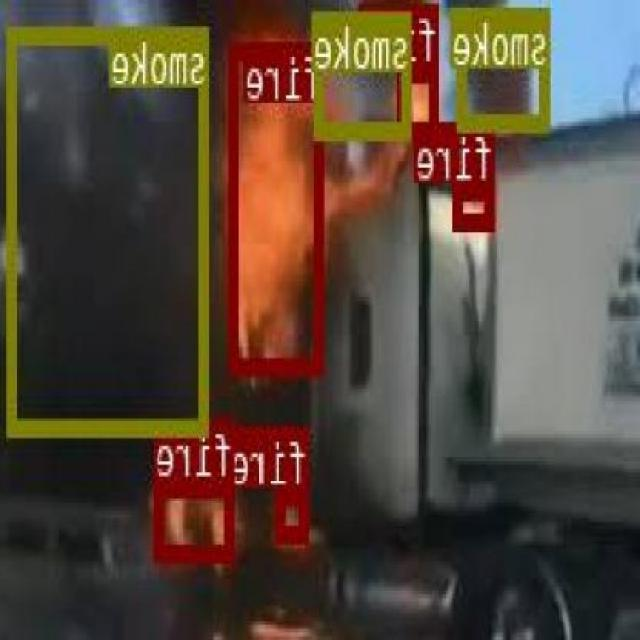Fire: (230, 41, 324, 372), (157, 478, 235, 558), (401, 62, 441, 135), (456, 180, 496, 228), (278, 486, 310, 540)
Smoke: (10, 24, 210, 433), (316, 9, 412, 137), (461, 7, 552, 128)
